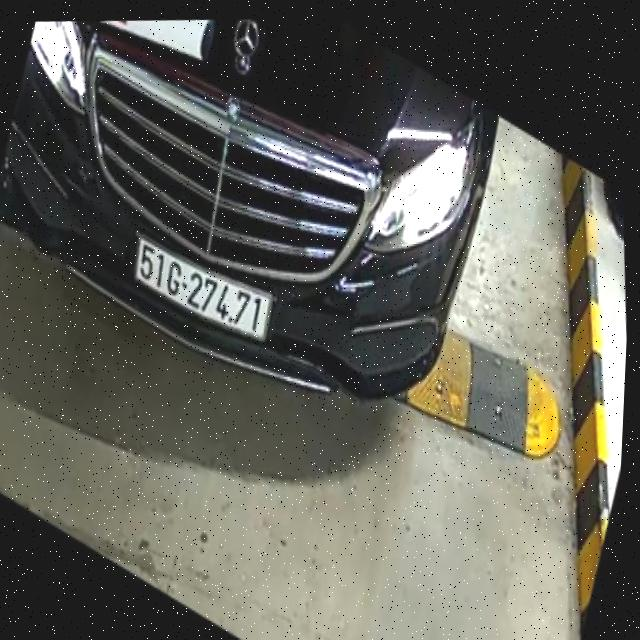car: (0, 0, 523, 443)
plate: (120, 220, 281, 356)
